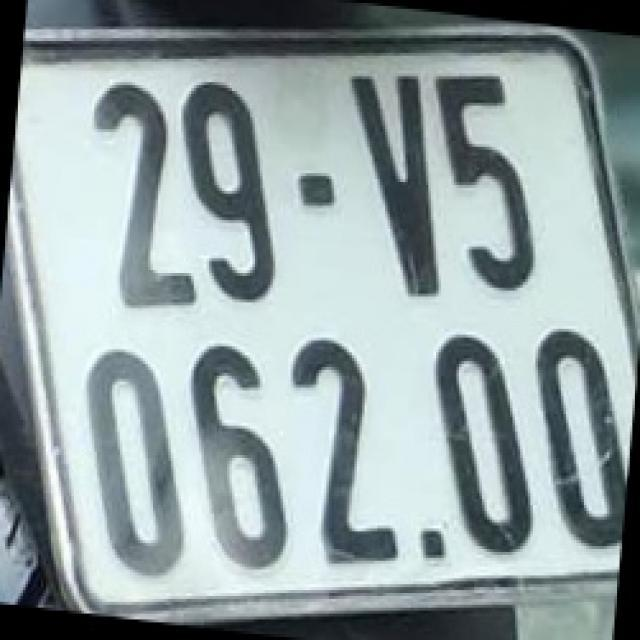0: (431, 326, 538, 558), (84, 341, 186, 578), (535, 323, 635, 552)
2: (290, 328, 410, 570), (87, 73, 199, 314)
5: (434, 64, 546, 294)
6: (188, 338, 294, 570)
9: (181, 74, 286, 306)
V: (349, 74, 446, 296)
